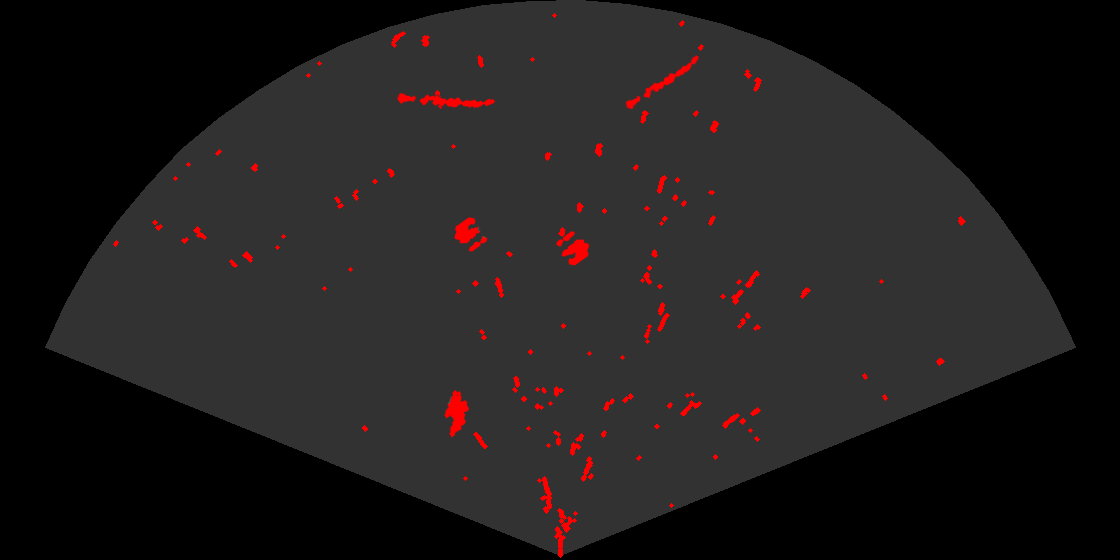AUV: (443, 388, 471, 439)
ball: (555, 230, 591, 267), (453, 216, 489, 253)
chain: (622, 54, 701, 111), (395, 92, 497, 110)
